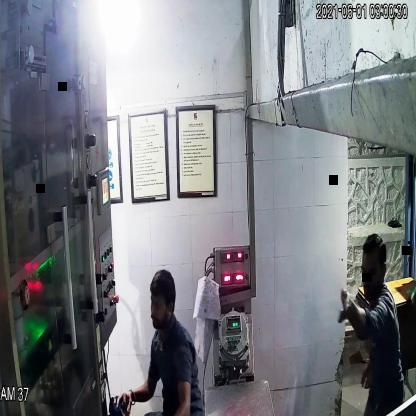no_goggles: (146, 290, 177, 316)
